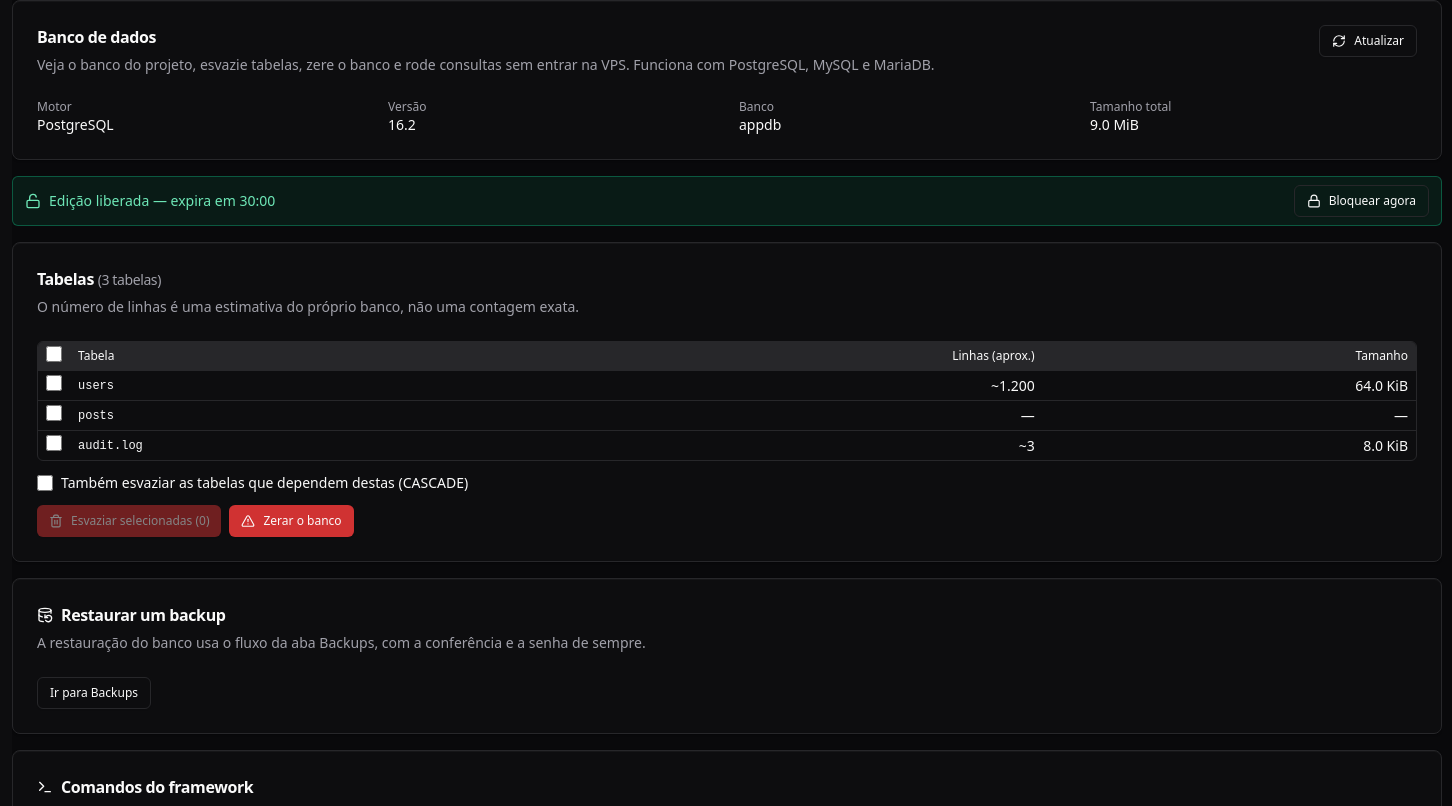
Test: liberar a edição › falha ao bloquear: avisa
Expected: the element with test id "database-overview" is shown, x1=37 y1=98 x2=1171 y2=134
Expected: the element with test id "database-unlocked" is shown, x1=12 y1=176 x2=1442 y2=226
Click the button "Bloquear agora".
click(1361, 201)  # box x1=1294 y1=185 x2=1429 y2=217
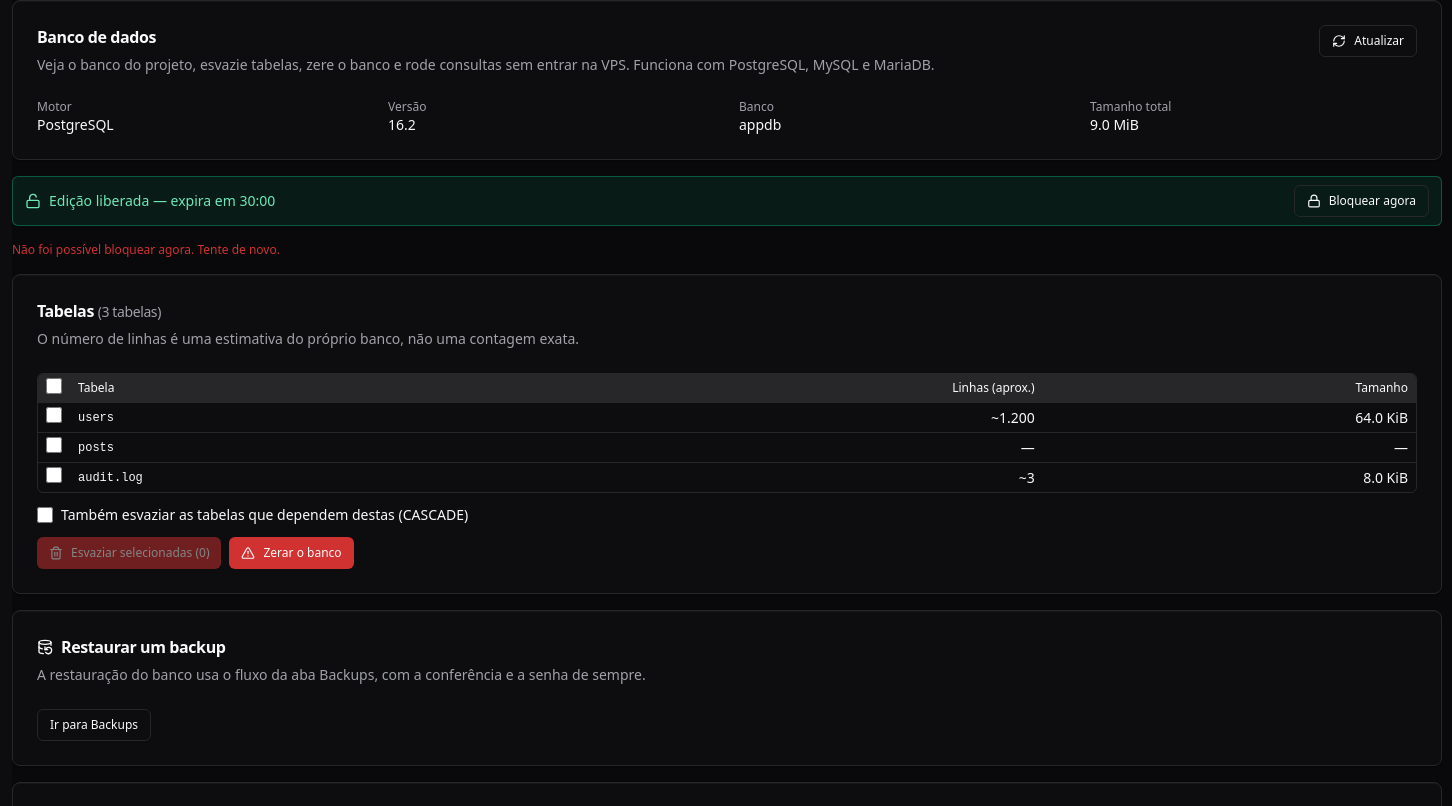
Expected: the element with test id "database-unlocked" is shown, x1=12 y1=176 x2=1442 y2=226
Expected: the text "Não foi possível bloquear agora. Tente de novo." is shown, x1=12 y1=241 x2=280 y2=258
